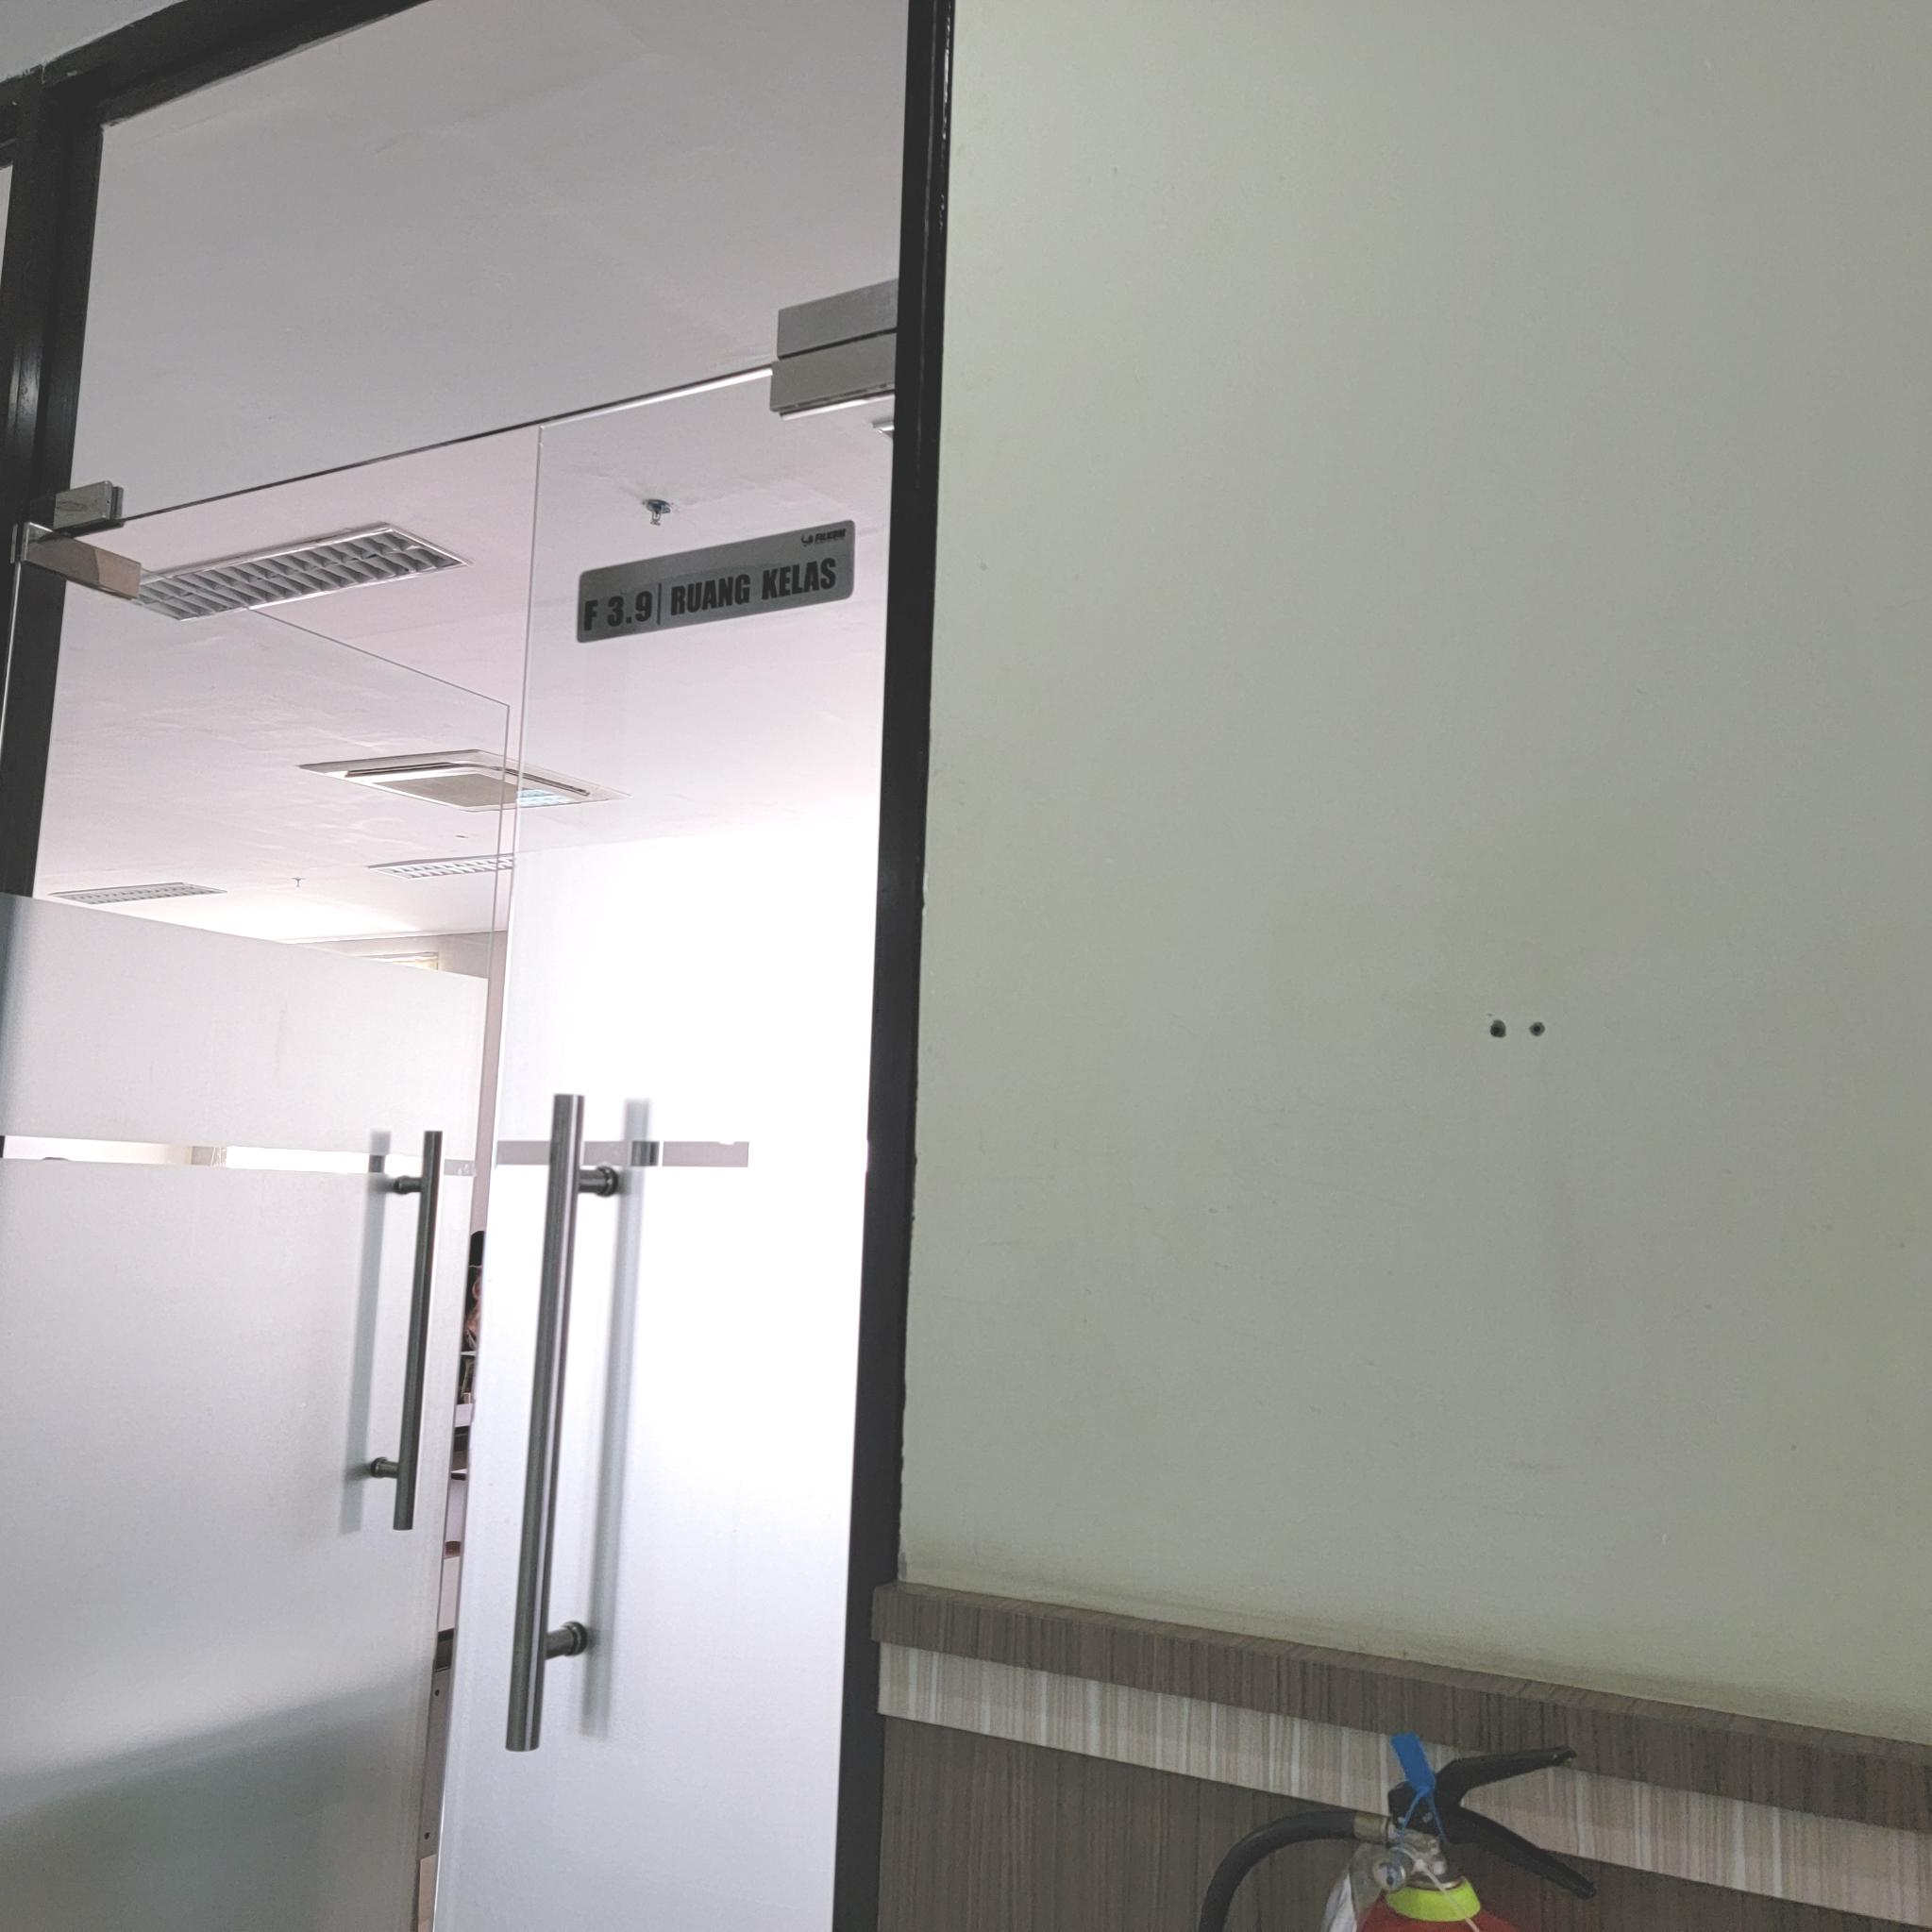plate: (580, 518, 856, 644)
